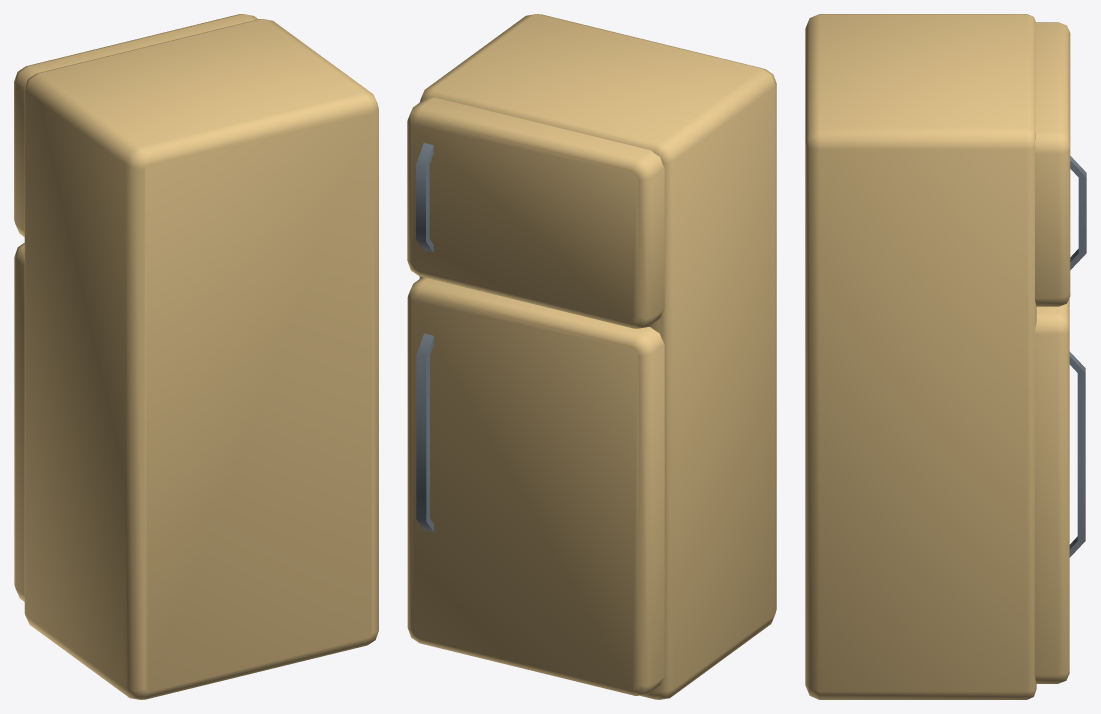
The model's file is fridge.gltf.
The picture shows the model from 3 angles, left to right: view 1: azimuth 30°, elevation 25°; view 2: azimuth 150°, elevation 25°; view 3: azimuth 270°, elevation 25°; orthographic projection. The views are drawn at different scales.
Parts seen in each view (by area): view 1: Cube.221, Cube.219, Cube.220; view 2: Cube.220, Cube.221, Cube.219; view 3: Cube.221, Cube.220, Cube.219.
Part boxes in pixels (left/top/right/bottom): Cube.221: left=24, top=19, right=378, bottom=699; Cube.219: left=14, top=14, right=258, bottom=236; Cube.220: left=14, top=243, right=24, bottom=601; Cube.220: left=407, top=277, right=664, bottom=695; Cube.221: left=419, top=14, right=776, bottom=699; Cube.219: left=407, top=97, right=664, bottom=328; Cube.221: left=805, top=14, right=1036, bottom=699; Cube.220: left=1034, top=298, right=1085, bottom=683; Cube.219: left=1035, top=22, right=1086, bottom=306.
Size of the model in its own units: 1.74 by 3.65 by 1.62.
2 materials, 1 textured.
